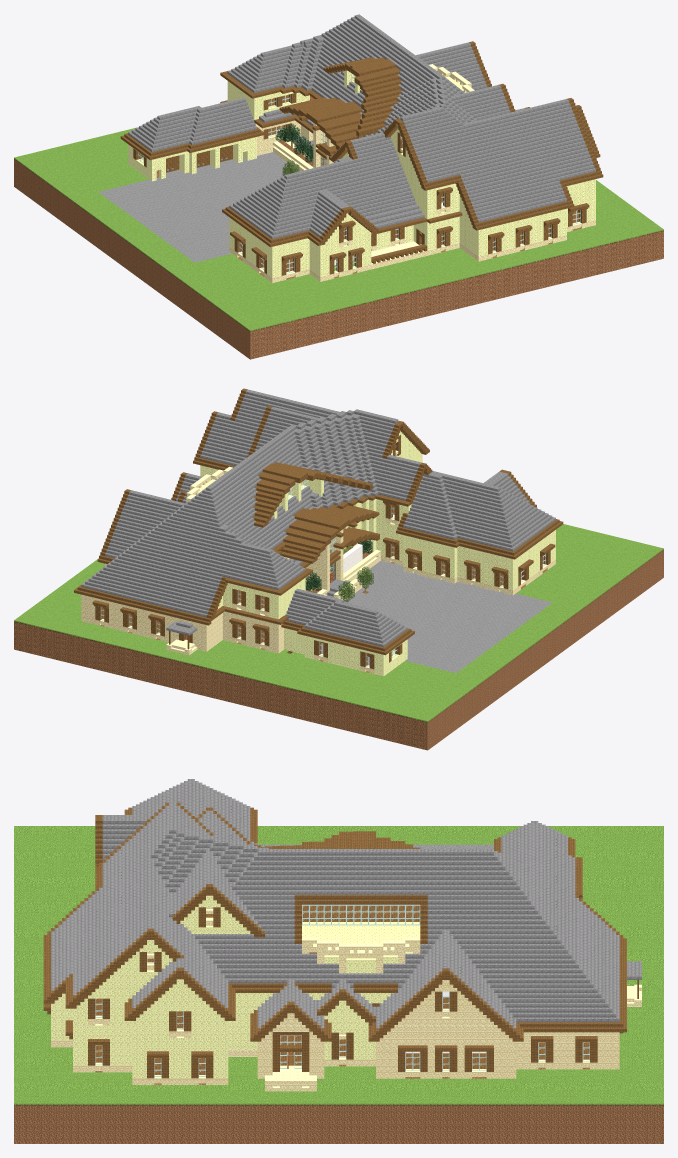
3 views of the same model, one above another, from view 1: azimuth 30°, elevation 25°; view 2: azimuth 150°, elevation 25°; view 3: azimuth 270°, elevation 25° (orthographic). The views are drawn at different scales.
Parts seen in each view (by area): view 1: Object_23, Object_11, Object_4, Object_7, Object_22, Object_20, Object_15, Object_14, Object_26, Object_16, Object_5, Object_17 (+2 smaller); view 2: Object_23, Object_11, Object_4, Object_22, Object_7, Object_20, Object_16, Object_15, Object_14, Object_26, Object_5, Object_17 (+1 smaller); view 3: Object_23, Object_11, Object_4, Object_7, Object_20, Object_16, Object_14, Object_26, Object_17, Object_15, Object_9, Object_10 (+1 smaller).
Boxes of the visible parts, box(x1,y1,x2,y2) form: Object_23: box(128, 16, 595, 239); Object_11: box(14, 127, 663, 335); Object_4: box(14, 140, 663, 359); Object_7: box(128, 70, 595, 277); Object_22: box(98, 152, 299, 262); Object_20: box(120, 45, 603, 263); Object_15: box(220, 41, 584, 259); Object_14: box(133, 57, 586, 275); Object_26: box(157, 14, 576, 228); Object_16: box(141, 64, 595, 282); Object_5: box(285, 58, 405, 156); Object_17: box(237, 66, 581, 278); Object_23: box(81, 394, 555, 647); Object_11: box(14, 524, 663, 725); Object_4: box(14, 547, 663, 750); Object_22: box(321, 560, 552, 672); Object_7: box(198, 431, 555, 676); Object_20: box(74, 393, 563, 655); Object_16: box(81, 466, 555, 673); Object_15: box(97, 388, 552, 629); Object_14: box(95, 435, 550, 669); Object_26: box(129, 389, 421, 635); Object_5: box(252, 449, 400, 556); Object_17: box(100, 439, 547, 671); Object_23: box(51, 779, 619, 1028); Object_11: box(14, 826, 663, 1110); Object_4: box(14, 1064, 663, 1143); Object_7: box(51, 895, 420, 1078); Object_20: box(43, 802, 626, 1059); Object_16: box(51, 937, 641, 1091); Object_14: box(88, 905, 597, 1078); Object_26: box(147, 802, 641, 1084); Object_17: box(95, 907, 641, 1091); Object_15: box(43, 807, 589, 1057); Object_9: box(280, 904, 420, 1068); Object_10: box(95, 959, 589, 1076).
Size of the model in its own units: 2.78 by 0.9531 by 2.75.
27 materials, 27 textured.
